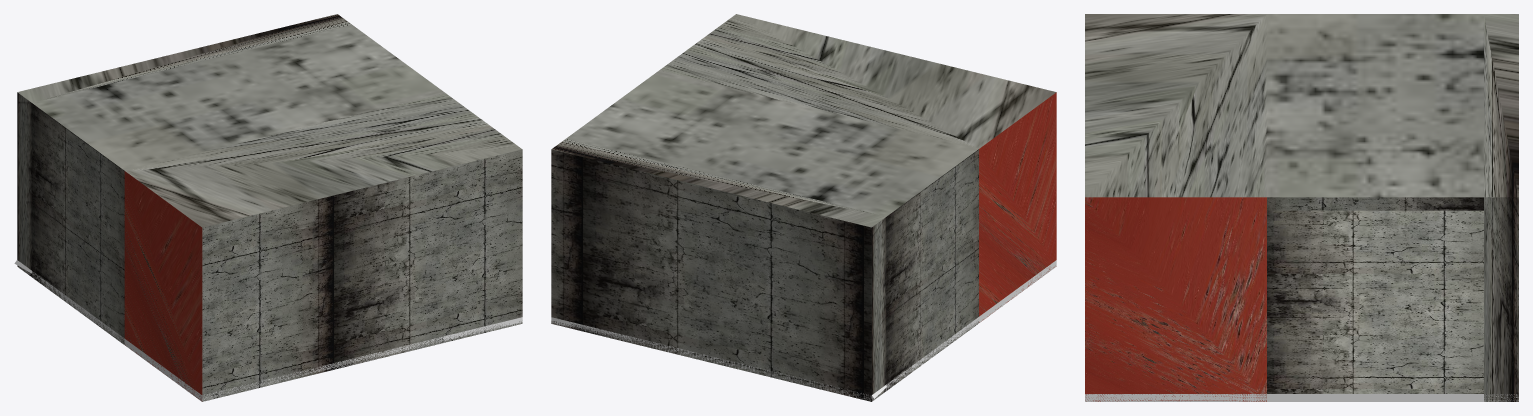
The model's file is cuarto.glb.
The picture shows the model from 3 angles, left to right: view 1: azimuth 30°, elevation 25°; view 2: azimuth 150°, elevation 25°; view 3: azimuth 270°, elevation 25°; orthographic projection. The views are drawn at different scales.
Visible parts, largest first — view 1: Cubo.001; view 2: Cubo.001; view 3: Cubo.001.
Part boxes in pixels (x1,y1,x2,y2): Cubo.001: [14, 14, 522, 401]; Cubo.001: [551, 14, 1056, 401]; Cubo.001: [1085, 14, 1518, 401].
Bounding box in the file's own units: 10.09 × 5.2 × 10.
Materials: 3 (2 with a texture image).
